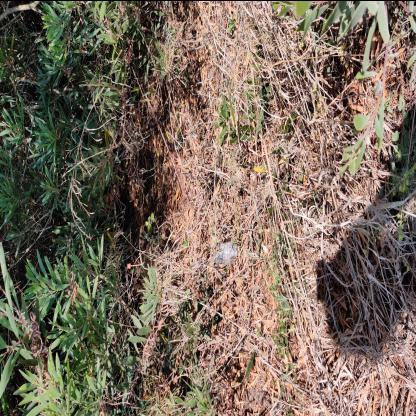plastik: (214, 241, 238, 263)
